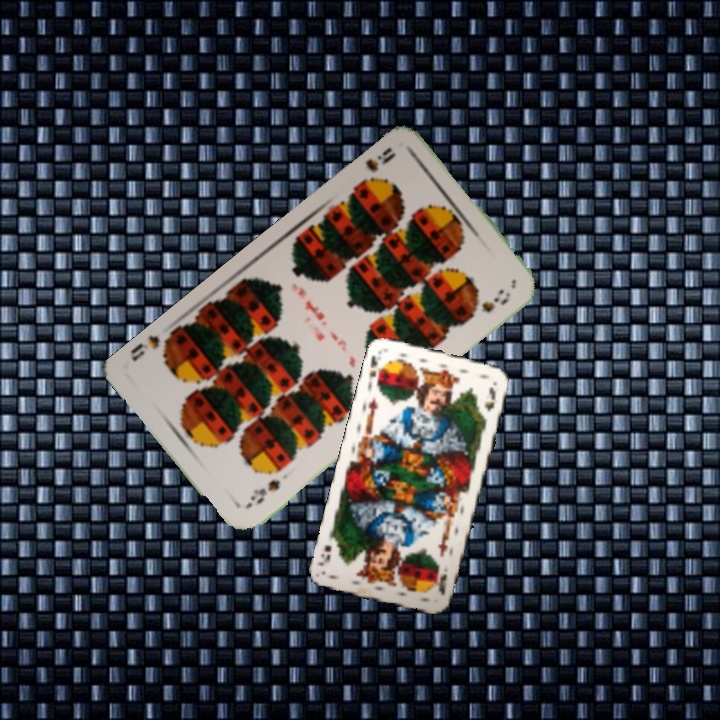S9: (354, 143, 399, 190), (246, 475, 283, 507)
SK: (364, 351, 385, 389), (434, 570, 450, 598)
